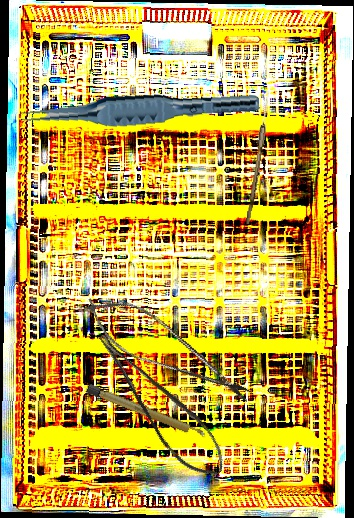Micro Scissor: (74, 283, 262, 416), (93, 314, 234, 491)
Scalpel Handle: (84, 383, 209, 441)
Surgical Spoon: (245, 90, 272, 225)
Tissue Forceps: (19, 79, 261, 138)
